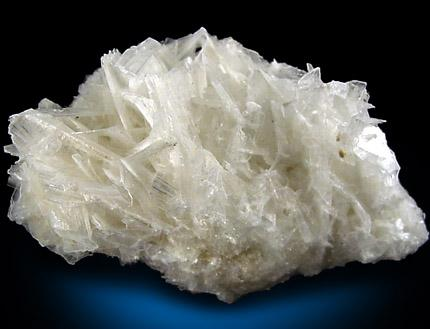gypsum: (5, 28, 428, 303)
